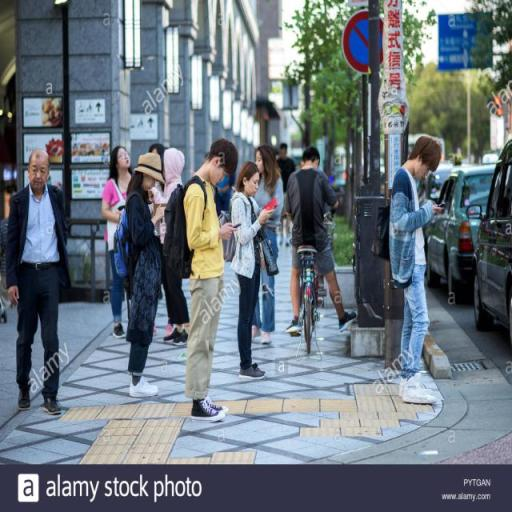person: (7, 148, 71, 419), (184, 137, 240, 423), (391, 135, 448, 407), (284, 144, 359, 335), (124, 150, 169, 399), (228, 155, 271, 382), (249, 148, 287, 347), (100, 144, 136, 341), (161, 144, 193, 350), (276, 142, 297, 250)
